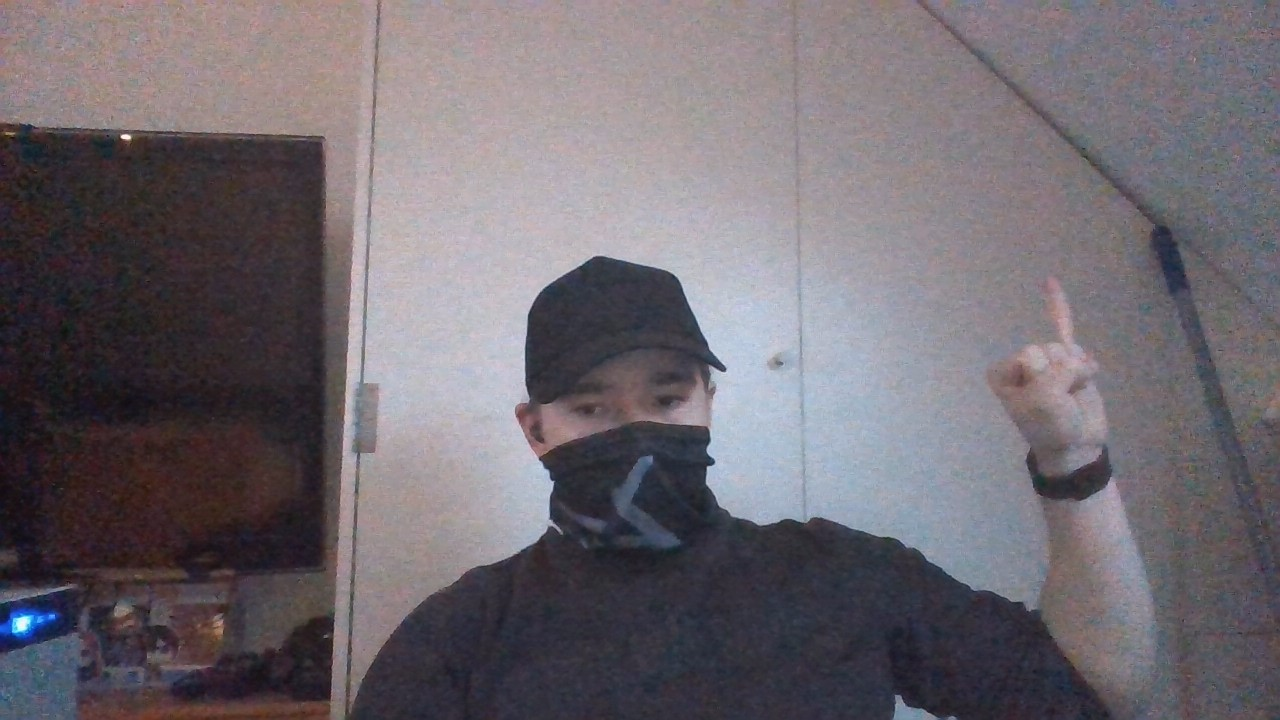I" Sign language: (980, 269, 1128, 449)
